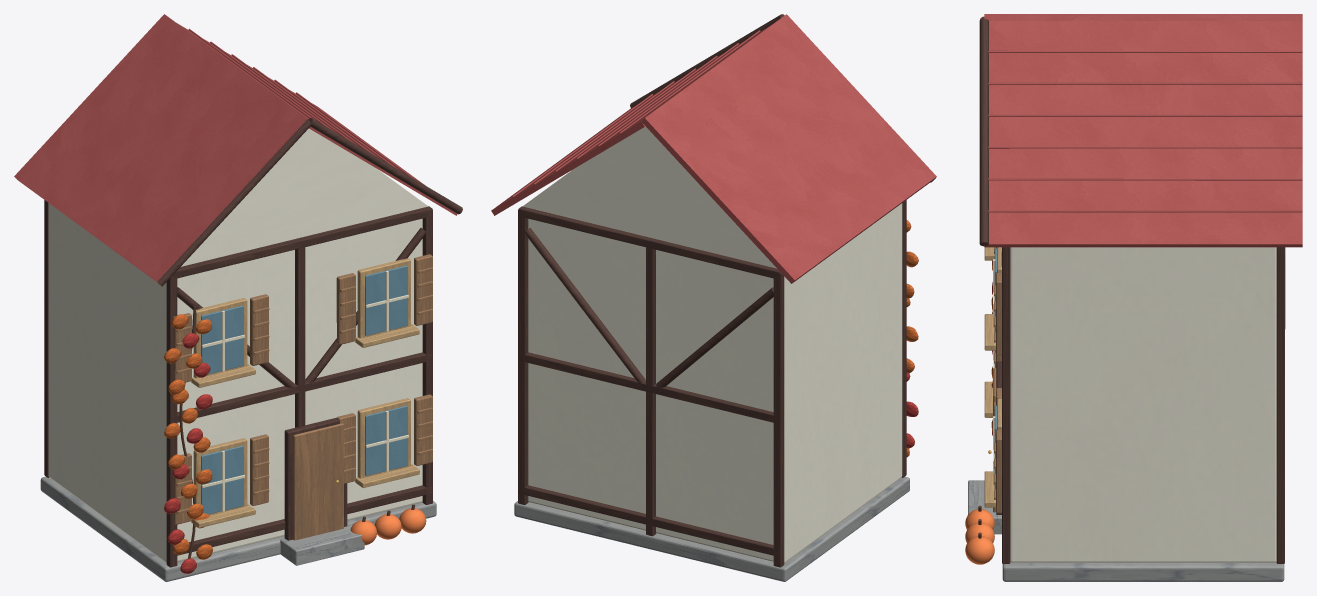
Rendered from house_2.glb.
The picture shows the model from 3 angles, left to right: view 1: azimuth 30°, elevation 25°; view 2: azimuth 150°, elevation 25°; view 3: azimuth 270°, elevation 25°; orthographic projection. The views are drawn at different scales.
Visible parts, largest first — view 1: house_2; view 2: house_2; view 3: house_2.
Part boxes in pixels (x1,y1,x2,y2): house_2: (14, 14, 462, 581); house_2: (491, 14, 936, 581); house_2: (965, 14, 1302, 581).
Size of the model in its own units: 5.6 by 7.68 by 4.77.
Materials: 3 (3 with a texture image).
